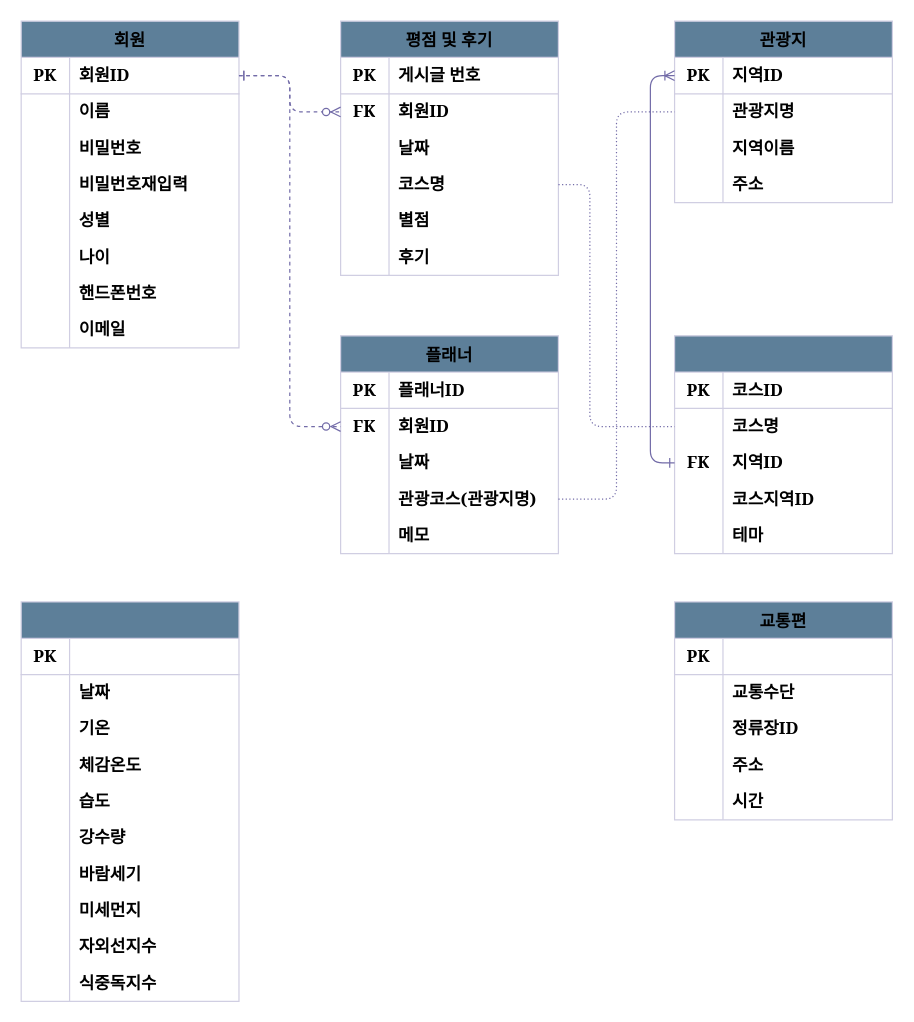
This 914x1022 diagram has some shape labels left out. The shapes that lost their labels are listed below. From the top down, each one's box as (x1, y1, x2, y2) in pixels, then its label:
(673, 335, 892, 554): 관광코스
(20, 601, 239, 1001): 날씨
